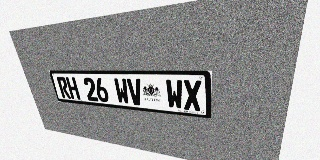2: (83, 77, 98, 101)
6: (93, 78, 110, 102)
H: (65, 77, 81, 100)
R: (56, 77, 71, 99)
V: (126, 78, 144, 106)
W: (165, 79, 184, 110), (113, 78, 130, 104)
X: (183, 80, 202, 111)
